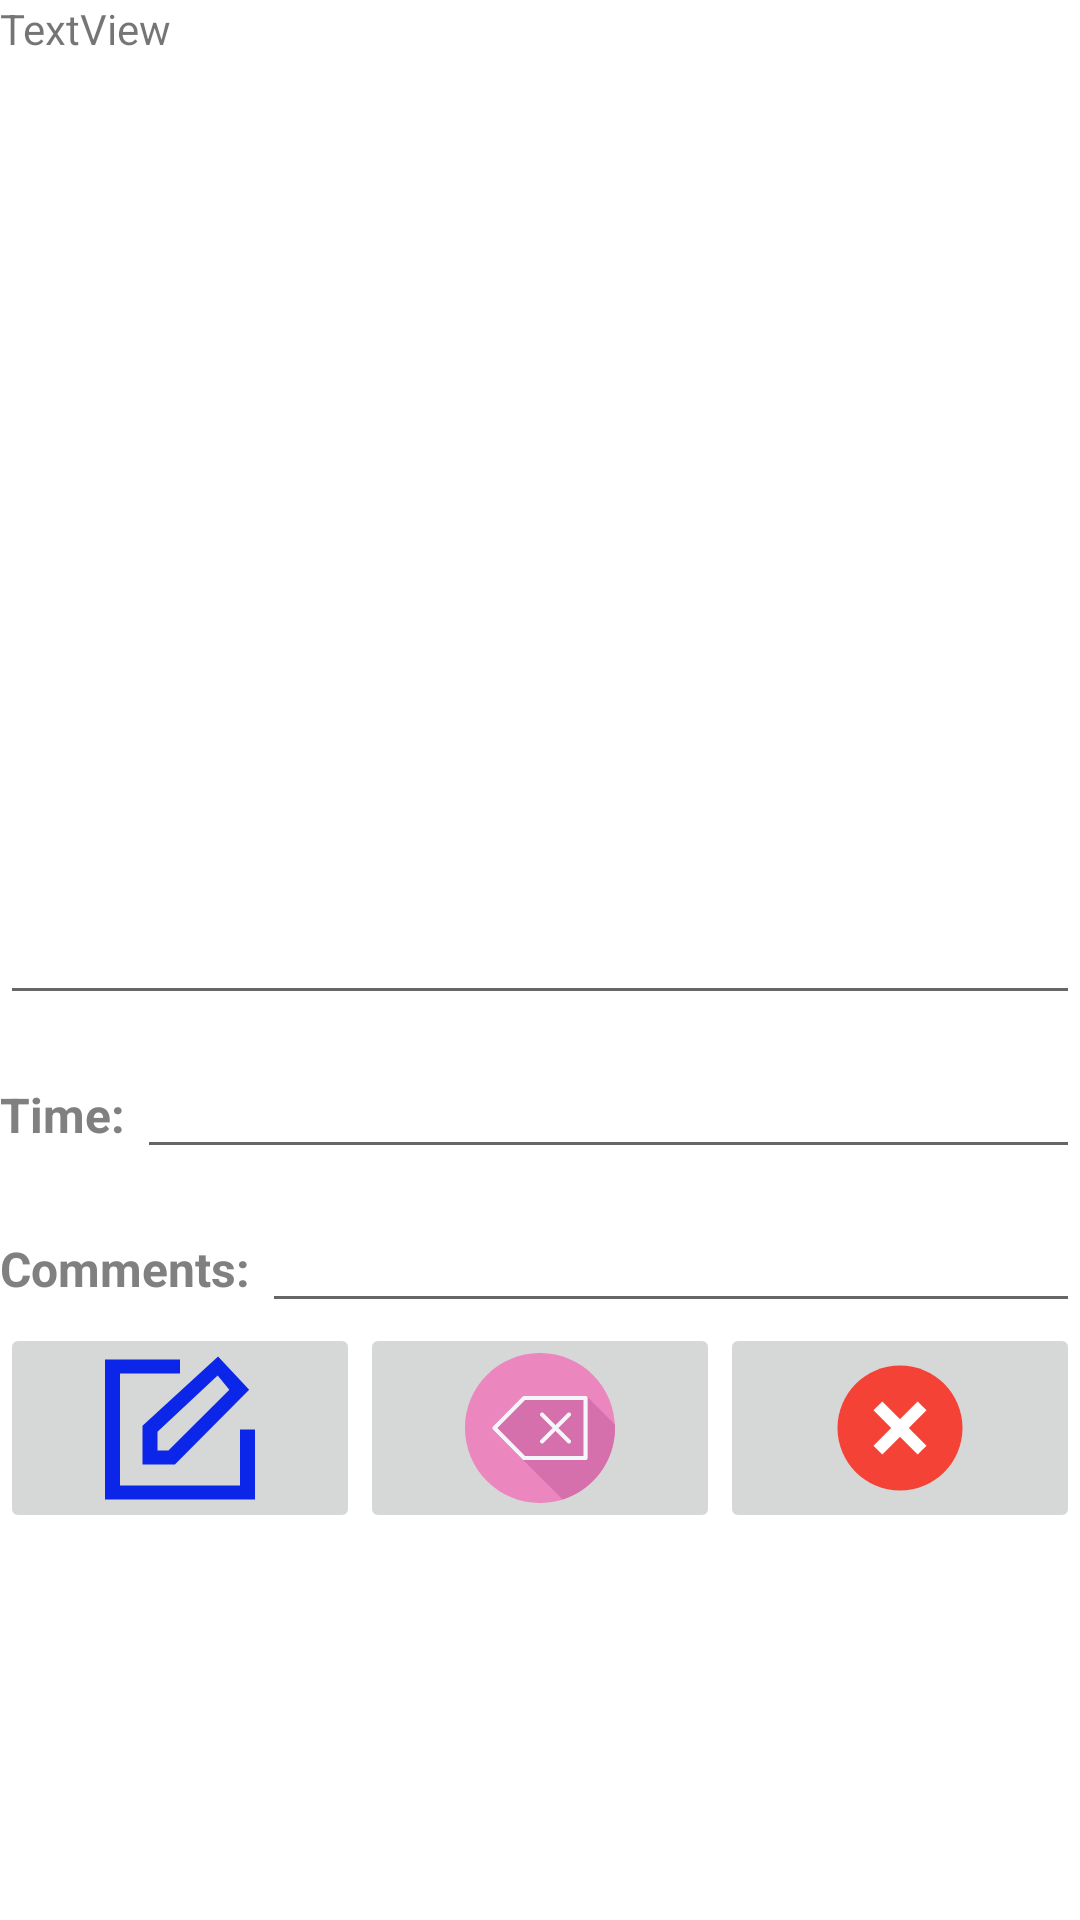

Icons on this 1080 x 1920 Android screen, each with the point to tap as [x,y]:
cancel: [900,1428]
delete: [540,1428]
edit: [180,1428]
